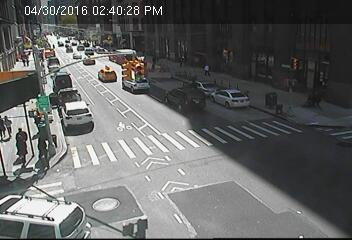neg: (39, 192, 64, 225), (225, 110, 244, 134), (128, 80, 146, 105), (268, 47, 286, 72), (86, 155, 103, 178), (229, 21, 246, 44), (236, 172, 253, 195), (196, 198, 212, 220), (322, 94, 337, 115), (85, 5, 100, 26), (178, 100, 193, 120), (300, 155, 315, 175), (55, 16, 70, 36), (166, 12, 179, 29), (140, 150, 151, 164), (108, 60, 117, 73)
pos: (7, 133, 29, 163), (9, 124, 31, 154), (201, 61, 213, 77), (150, 54, 160, 68), (174, 56, 184, 68), (17, 54, 26, 66), (23, 54, 31, 66)
